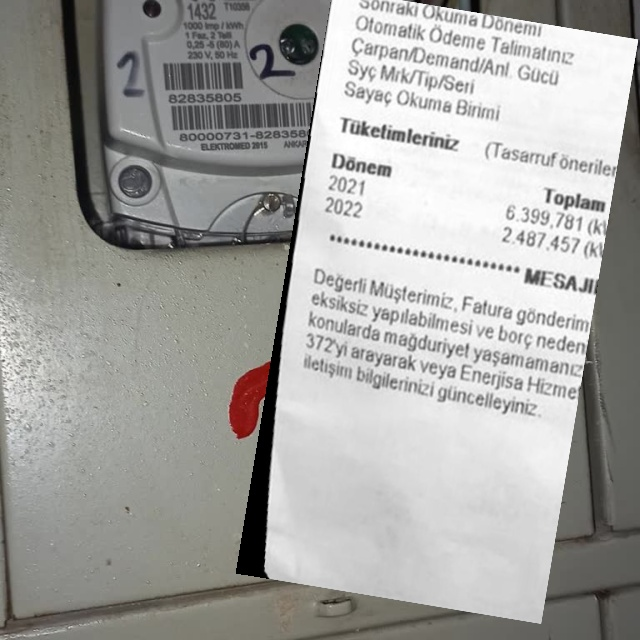electricity-bill: (236, 0, 639, 624)
